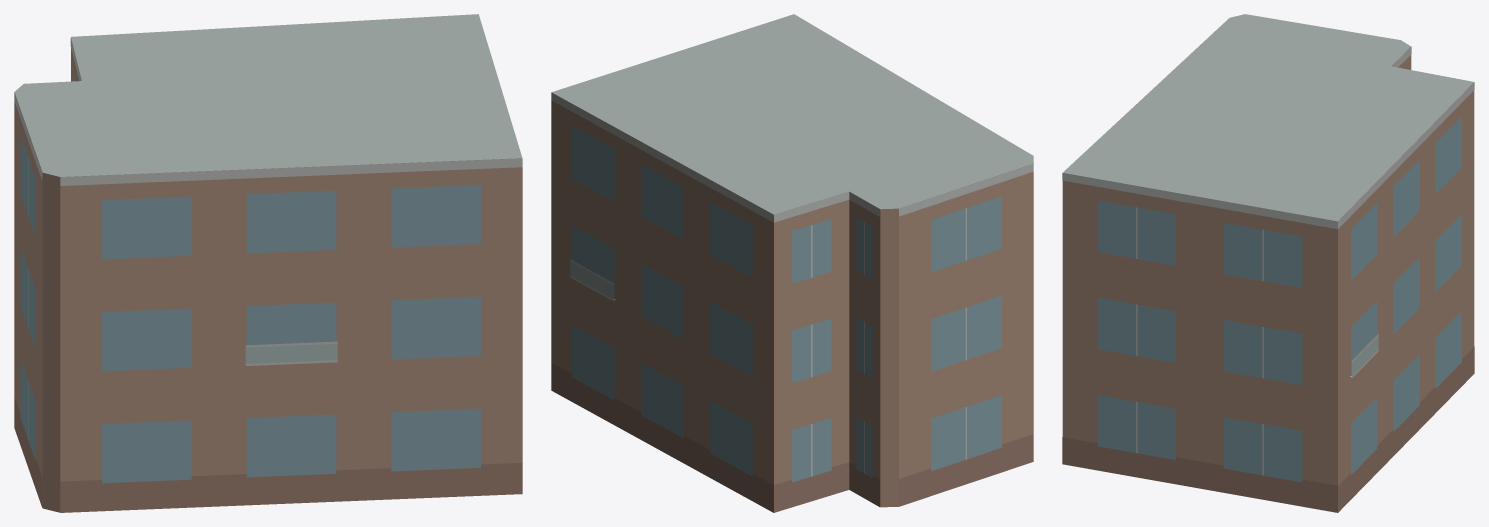
Rendered from survey-upis-32519530.glb.
3 views of the same model, side by side, from view 1: azimuth 30°, elevation 25°; view 2: azimuth 150°, elevation 25°; view 3: azimuth 270°, elevation 25° (orthographic). The views are drawn at different scales.
Parts seen in each view (by area): view 1: survey-upis-32519530.tmp; view 2: survey-upis-32519530.tmp; view 3: survey-upis-32519530.tmp.
Part boxes in pixels (x1,y1,x2,y2): survey-upis-32519530.tmp: (14,14,522,512); survey-upis-32519530.tmp: (551,14,1033,512); survey-upis-32519530.tmp: (1062,14,1474,512).
Bounding box in the file's own units: 13.89 × 9.1 × 11.67.
